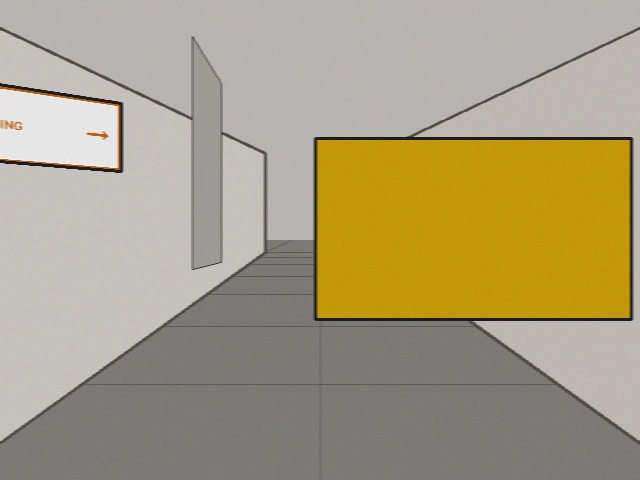directional_sign: (0, 77, 121, 171)
forklift: (315, 138, 631, 319)
